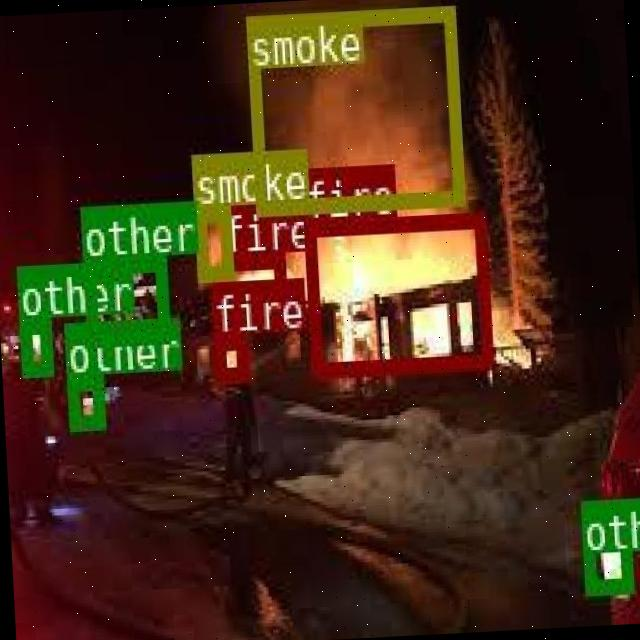fire: (302, 210, 489, 374), (220, 251, 284, 303), (212, 331, 246, 381)
smoke: (245, 4, 462, 212), (193, 205, 230, 278)
